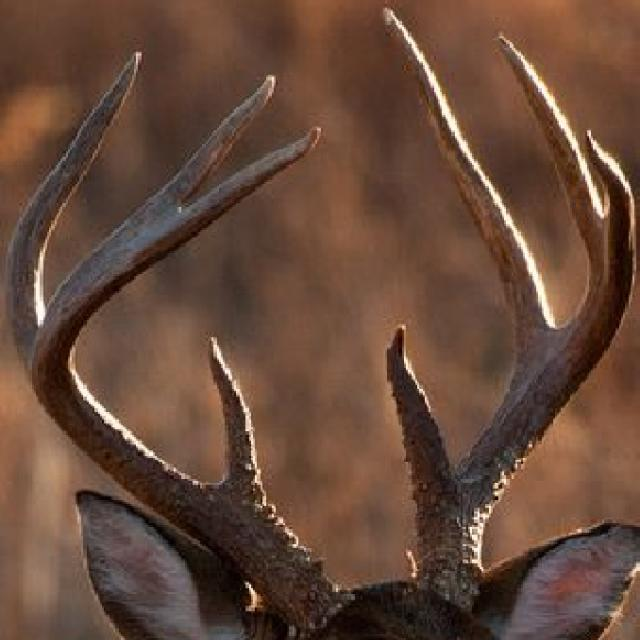L-F: (407, 130, 637, 616)
L-G1: (382, 315, 455, 521)
L-G2: (380, 5, 558, 374)
L-G3: (491, 34, 604, 255)
R-F: (30, 122, 360, 632)
R-G1: (207, 332, 269, 504)
R-G2: (4, 48, 147, 374)
R-G3: (150, 72, 277, 203)
